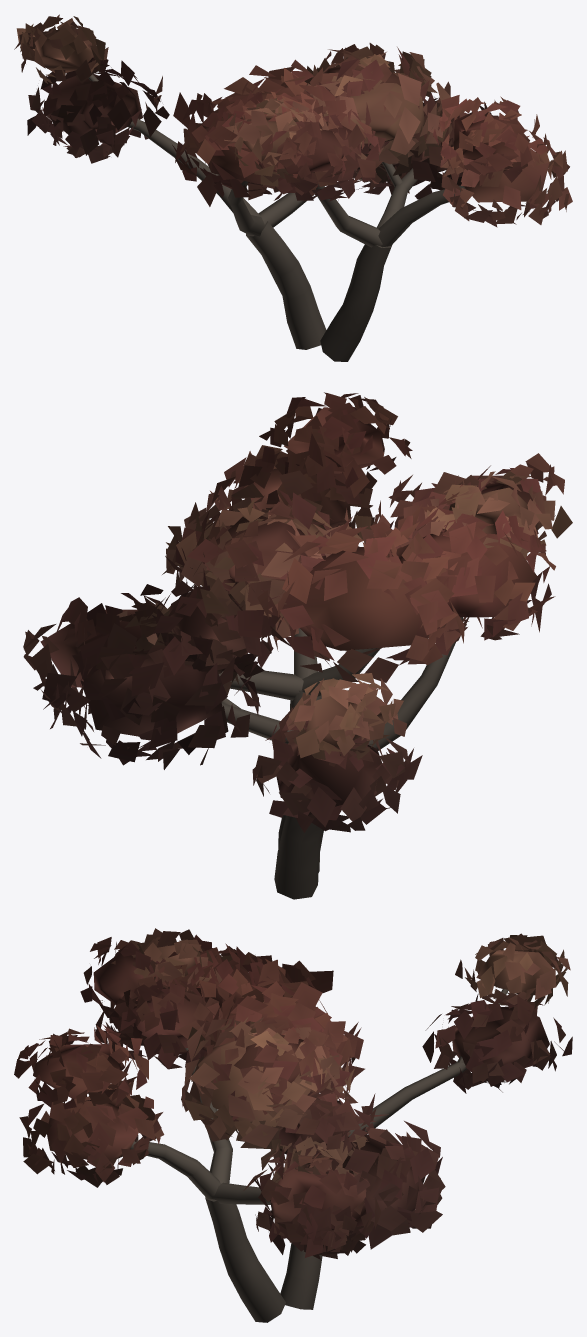
The model's file is nire_b.glb.
3 renders of one model, top to bottom at view 1: azimuth 30°, elevation 25°; view 2: azimuth 150°, elevation 25°; view 3: azimuth 270°, elevation 25°, orthographic. The views are drawn at different scales.
Visible parts, largest first — view 1: NireBHojas, NireBTronco, NireBCopa; view 2: NireBHojas, NireBCopa, NireBTronco; view 3: NireBHojas, NireBCopa, NireBTronco.
Part boxes in pixels (box(x1,y1,x2,y2)): NireBHojas: box(14, 14, 572, 227); NireBTronco: box(88, 74, 465, 361); NireBCopa: box(34, 29, 549, 202); NireBHojas: box(23, 392, 572, 832); NireBCopa: box(40, 407, 542, 806); NireBTronco: box(219, 617, 462, 899); NireBHojas: box(14, 928, 572, 1259); NireBCopa: box(33, 945, 553, 1229); NireBTronco: box(130, 989, 508, 1322).
Size of what is drawn, in the model's own units: 3.23 by 2.47 by 3.83.
